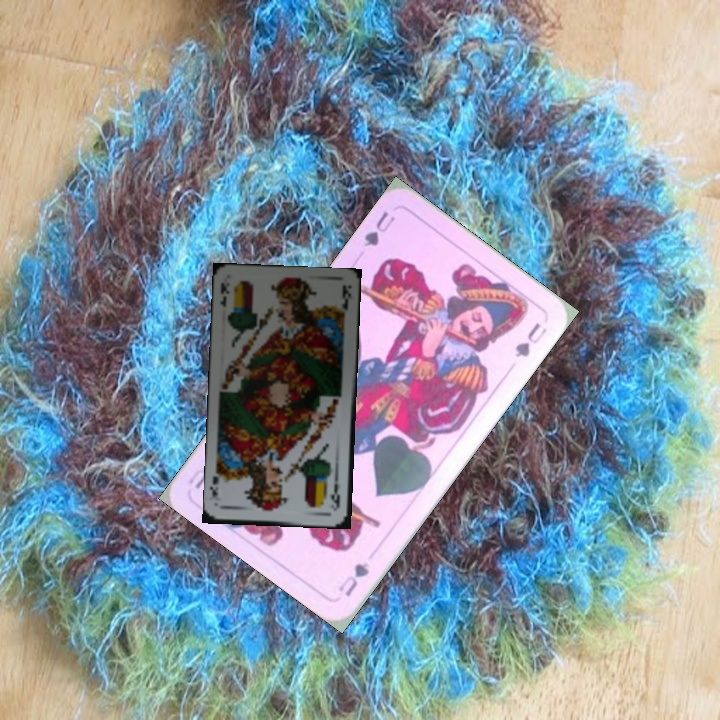EK: (327, 471, 342, 511), (216, 278, 232, 309)
GU: (359, 207, 398, 249), (334, 558, 373, 599)
